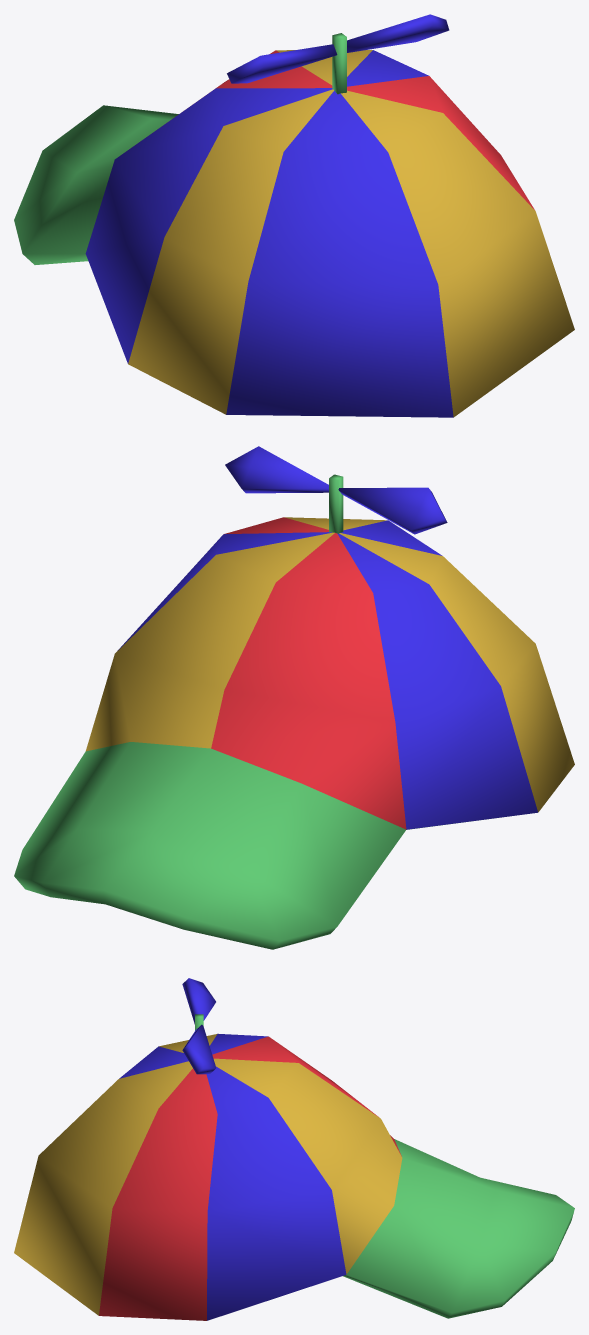
Rendered from propellor_hat.glb.
3 views of the same model, one above another, from view 1: azimuth 30°, elevation 25°; view 2: azimuth 150°, elevation 25°; view 3: azimuth 270°, elevation 25° (orthographic). The views are drawn at different scales.
Parts seen in each view (by area): view 1: Sphere, Plane, Cube; view 2: Sphere, Plane, Cube; view 3: Sphere, Plane.
Boxes of the visible parts, left/top/right/bottom form: Sphere: left=14, top=50, right=574, bottom=417; Plane: left=227, top=14, right=449, bottom=83; Cube: left=332, top=33, right=346, bottom=94; Sphere: left=14, top=517, right=574, bottom=949; Plane: left=225, top=446, right=447, bottom=534; Cube: left=329, top=474, right=343, bottom=533; Sphere: left=14, top=1033, right=574, bottom=1320; Plane: left=182, top=978, right=216, bottom=1074.
Bounding box in the file's own units: 0.3017 × 0.2196 × 0.4463.
4 materials, 2 textured.
